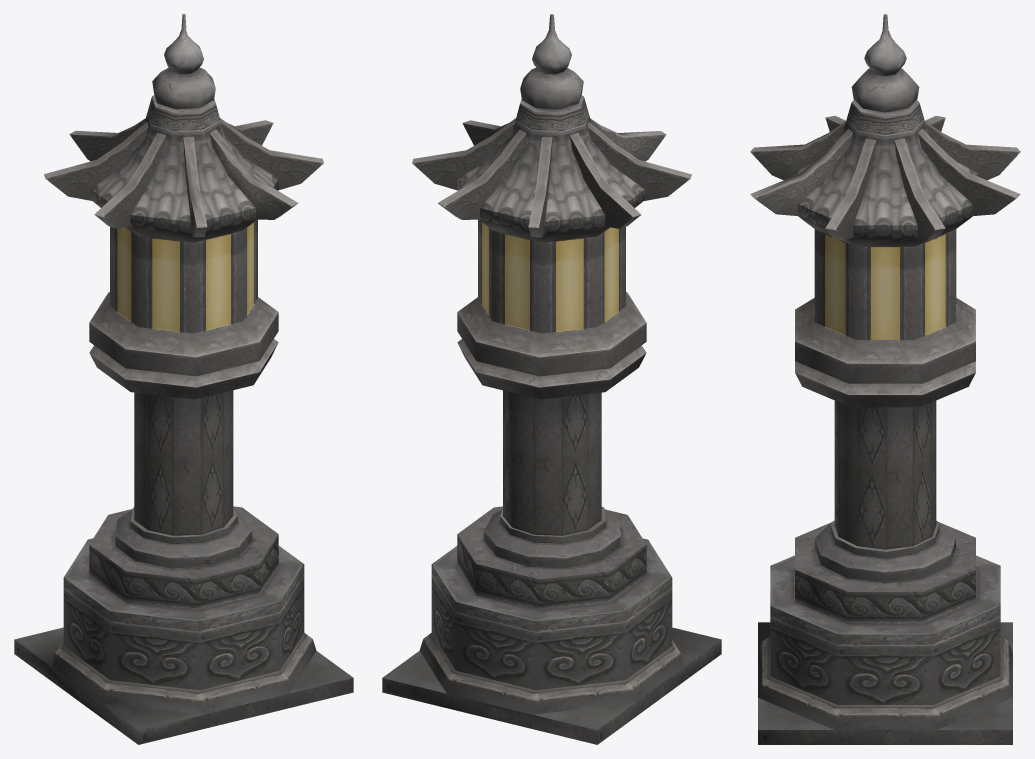
File: q01a_thing_04_Light.FBX
The picture shows the model from 3 angles, left to right: view 1: azimuth 30°, elevation 25°; view 2: azimuth 150°, elevation 25°; view 3: azimuth 270°, elevation 25°; orthographic projection. The views are drawn at different scales.
Parts seen in each view (by area): view 1: q01a_thing_04, light_mesh; view 2: q01a_thing_04, light_mesh; view 3: q01a_thing_04, light_mesh.
Boxes of the visible parts, bbox=[...] form: q01a_thing_04: bbox=[14, 14, 353, 744]; light_mesh: bbox=[117, 222, 254, 331]; q01a_thing_04: bbox=[382, 14, 721, 744]; light_mesh: bbox=[481, 222, 618, 331]; q01a_thing_04: bbox=[750, 14, 1020, 744]; light_mesh: bbox=[825, 233, 945, 339].
Bounding box in the file's own units: 20.01 × 55.11 × 20.01.
